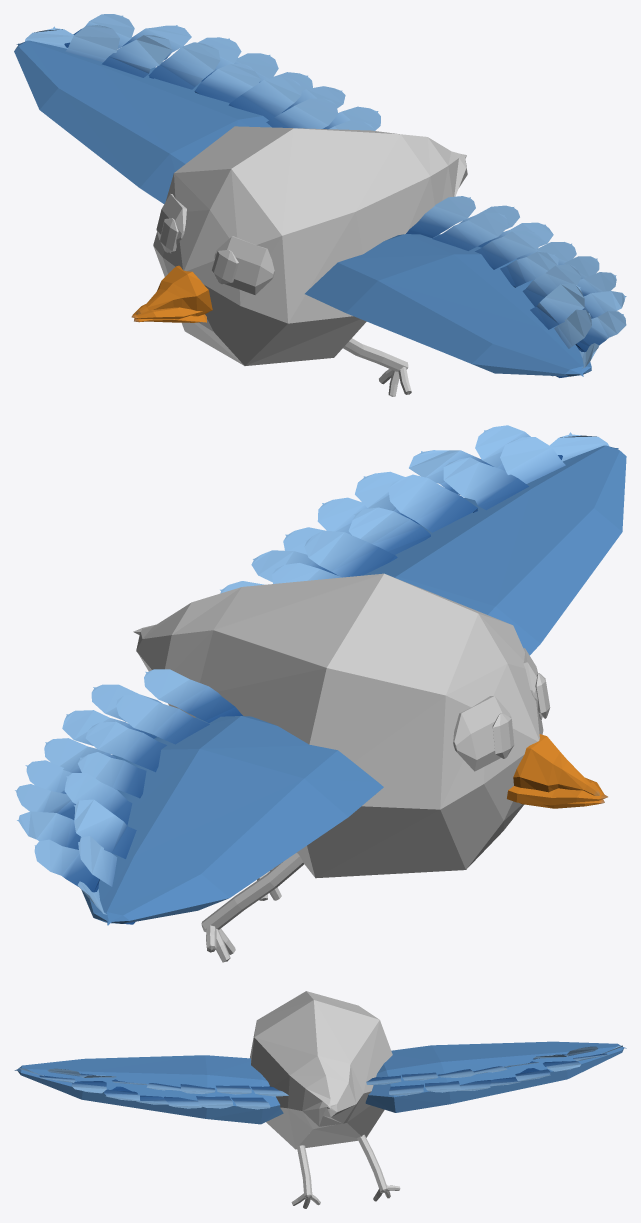
Rendered from Bird-test.fbx.
The picture shows the model from 3 angles, top to bottom: view 1: azimuth 30°, elevation 25°; view 2: azimuth 150°, elevation 25°; view 3: azimuth 270°, elevation 25°; orthographic projection. The views are drawn at different scales.
Parts seen in each view (by area): view 1: Body, Left, Riight, Eye (×2), Beak, LegL, Puppil; view 2: Body, Riight, Left, Beak, LegR, Eye, Pupil; view 3: Body, Left, Riight, LegR, LegL.
Boxes of the visible parts, x1,y1,x2,y2 form: Body: (153,126,467,365); Left: (305,196,626,377); Riight: (14,14,380,203); Eye (×2): (156,193,274,294); Beak: (131,265,212,319); LegL: (343,338,411,396); Puppil: (212,250,238,284); Body: (133,573,543,878); Riight: (15,669,383,925); Left: (220,425,626,655); Beak: (507,734,607,805); LegR: (201,852,303,962); Eye: (453,696,512,771); Pupil: (492,713,514,758); Body: (250,991,392,1149); Left: (14,1055,288,1124); Riight: (365,1041,626,1112); LegR: (357,1134,400,1201); LegL: (291,1145,320,1208).
Size of the model in its own units: 0.7961 by 0.6108 by 1.88.
